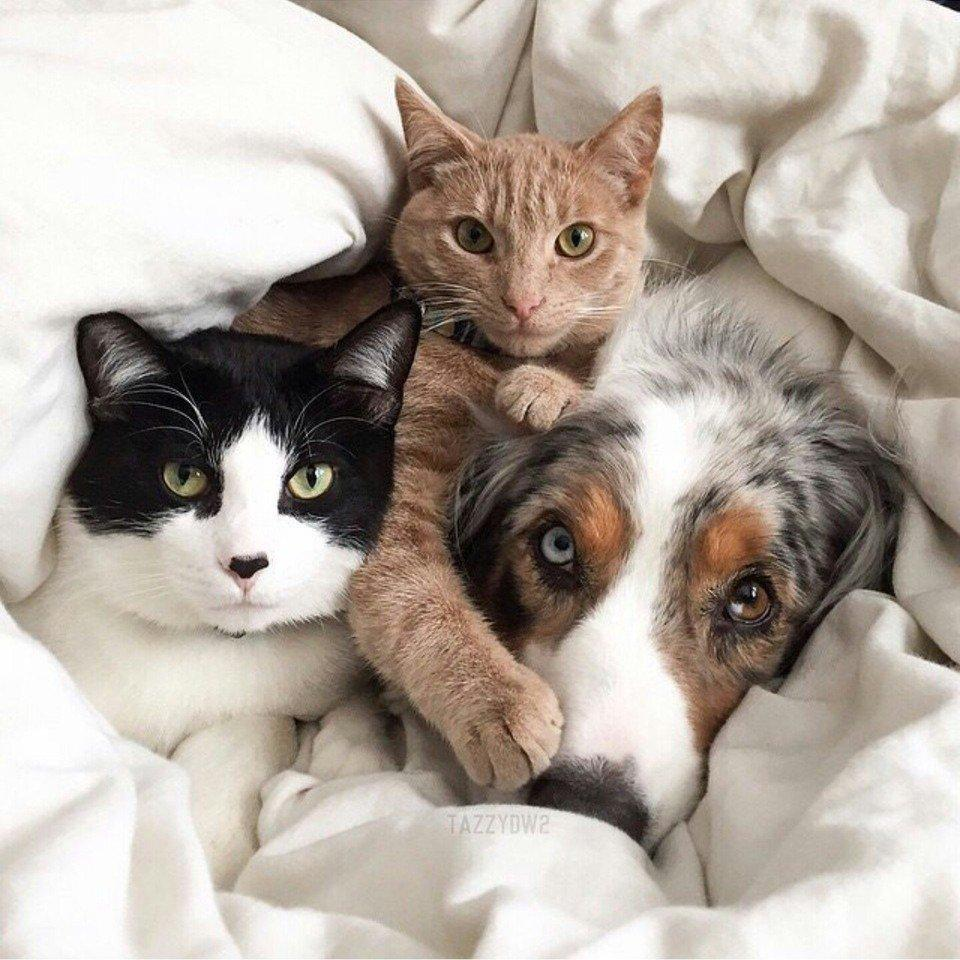animals: (417, 371, 903, 903), (56, 296, 430, 660), (379, 64, 689, 391)
